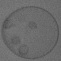small: (28, 20, 37, 31), (12, 37, 22, 45), (4, 21, 14, 29), (19, 45, 27, 54)
